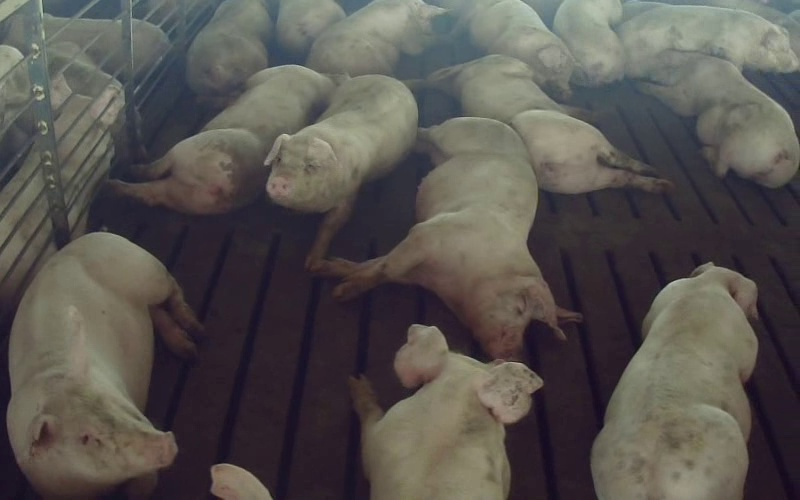pig: (317, 117, 575, 358), (8, 233, 202, 496), (591, 263, 757, 499), (109, 65, 348, 213), (427, 55, 670, 193), (350, 325, 542, 499), (637, 51, 799, 187), (617, 5, 799, 77), (454, 0, 574, 97), (306, 0, 445, 76), (553, 0, 624, 86)
